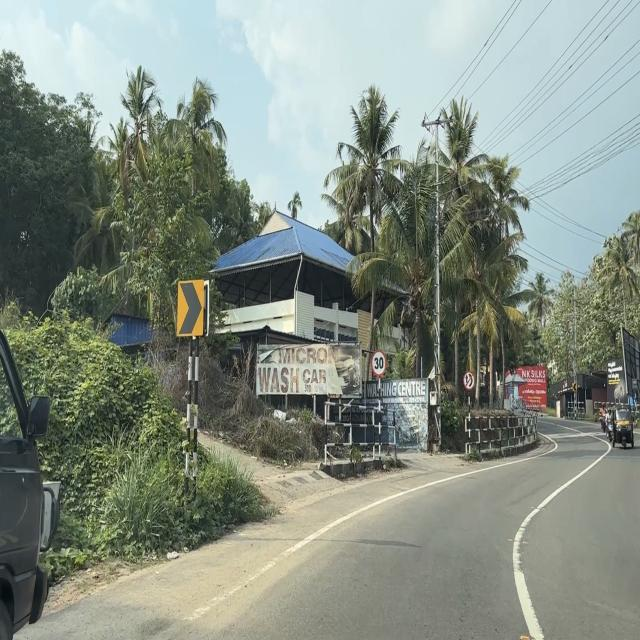OVERTAKING_PROHIBITED: (463, 371, 475, 391)
SPEED_LIMIT_30: (371, 349, 387, 377)
TURN_LEFT: (572, 383, 577, 391)
TURN_RIGHT: (177, 280, 204, 338)
